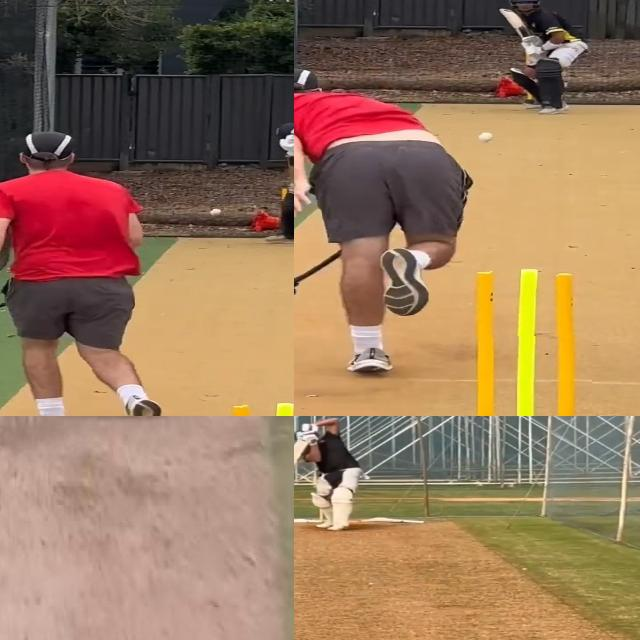Cricket ball: (477, 132, 494, 143), (208, 208, 224, 218)
Stumps: (455, 269, 592, 416)
